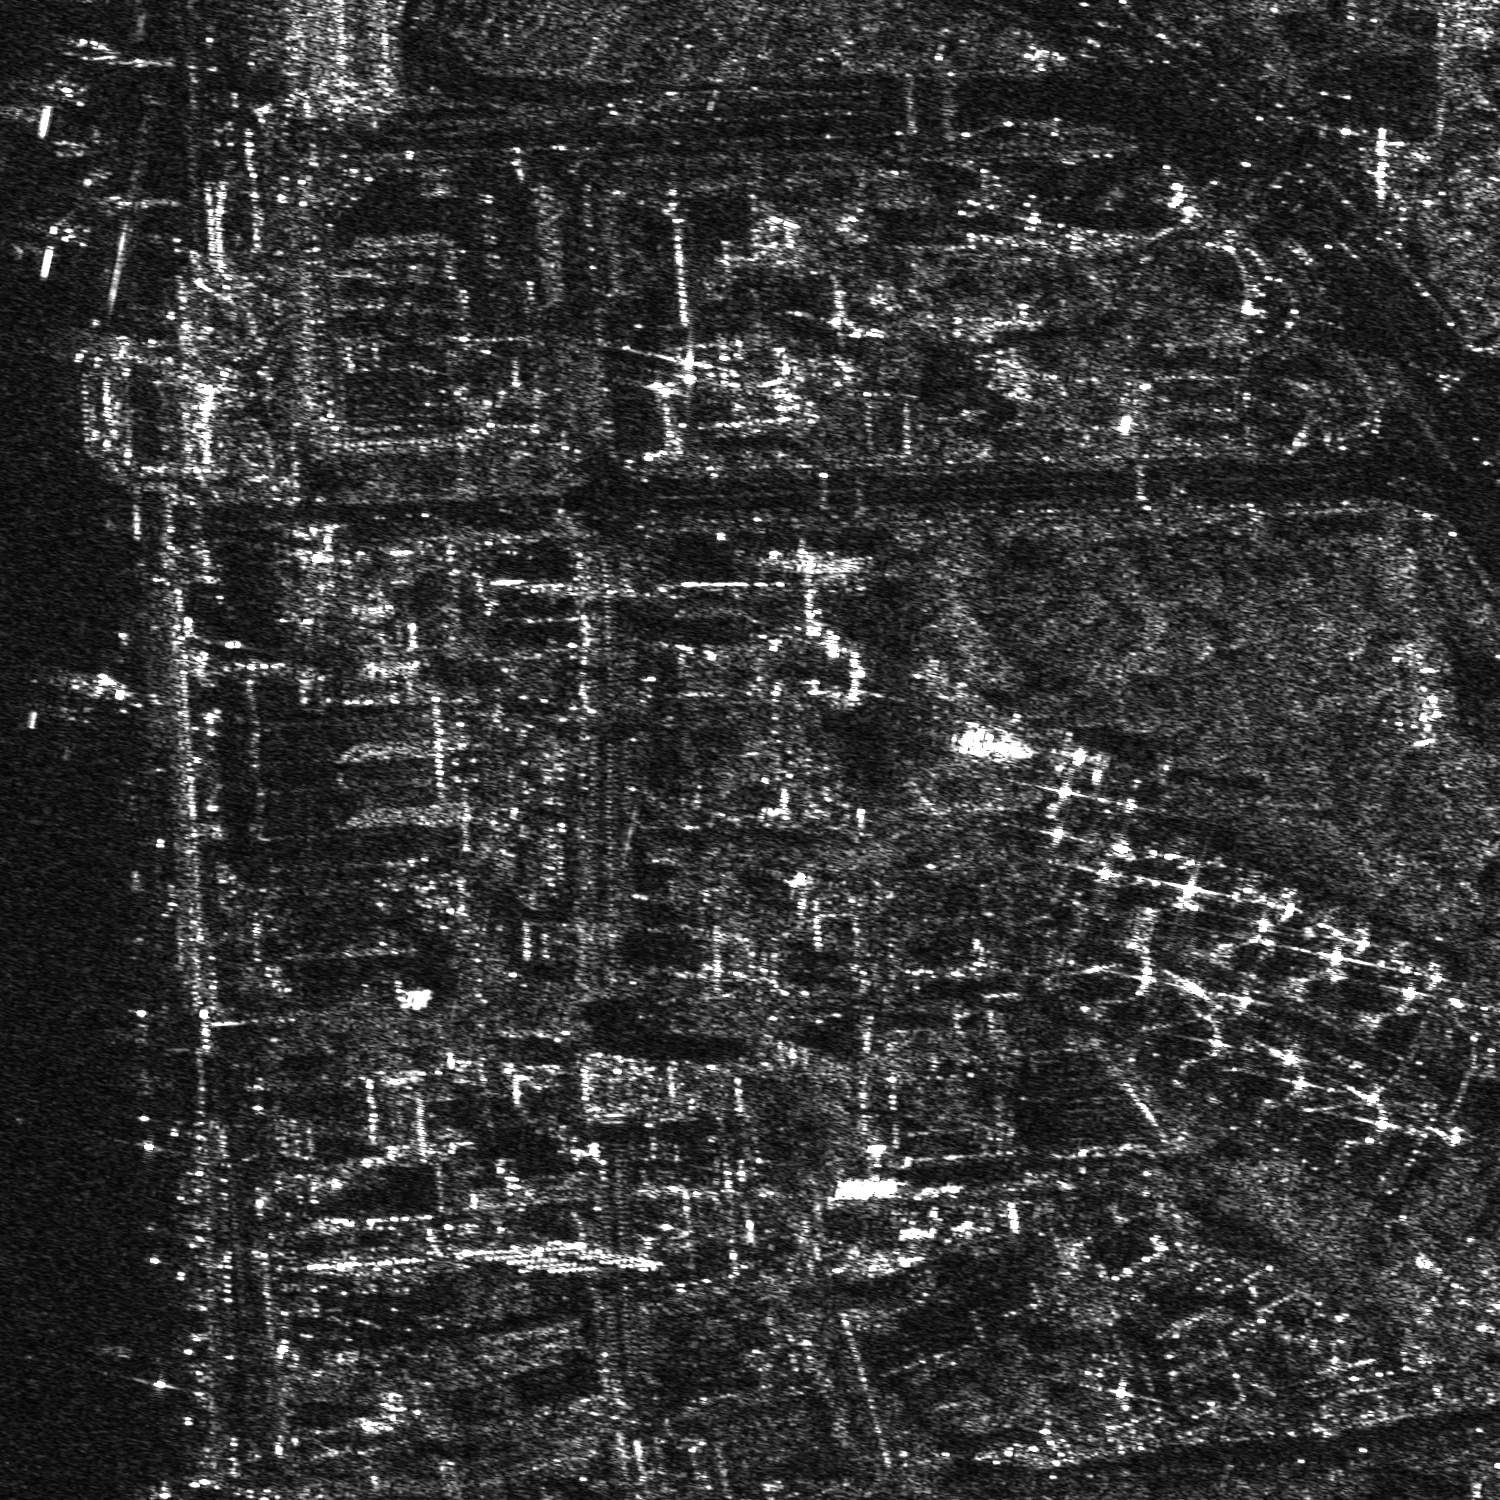A220: (16, 662, 157, 732)
